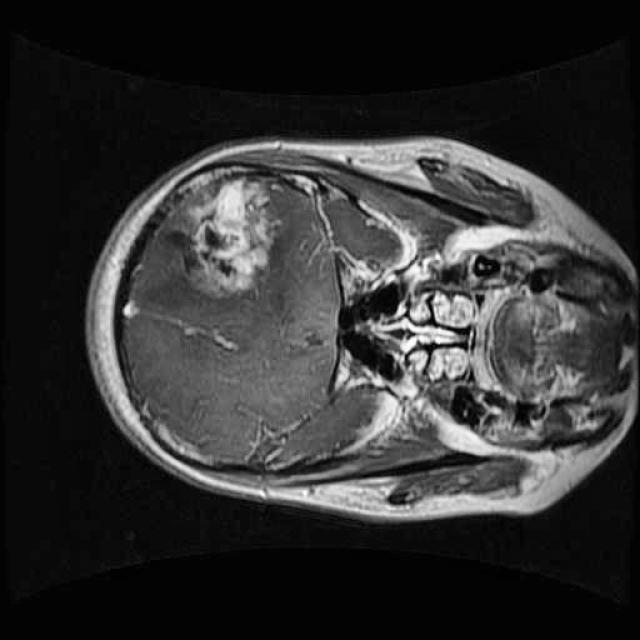Tumor: (156, 153, 292, 309)
